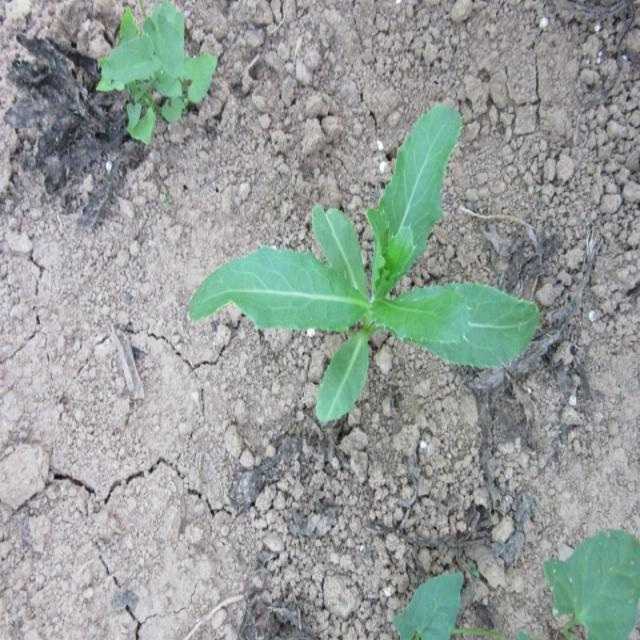cs: (190, 98, 541, 426)
